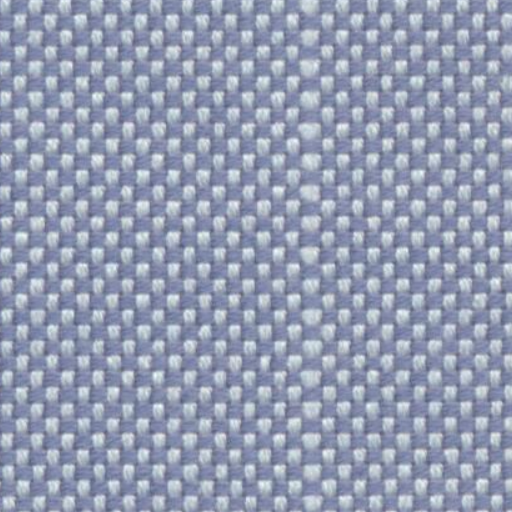TuoSha: (276, 10, 345, 494)
